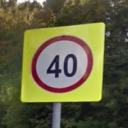speed_limit_40: (31, 34, 94, 96)
